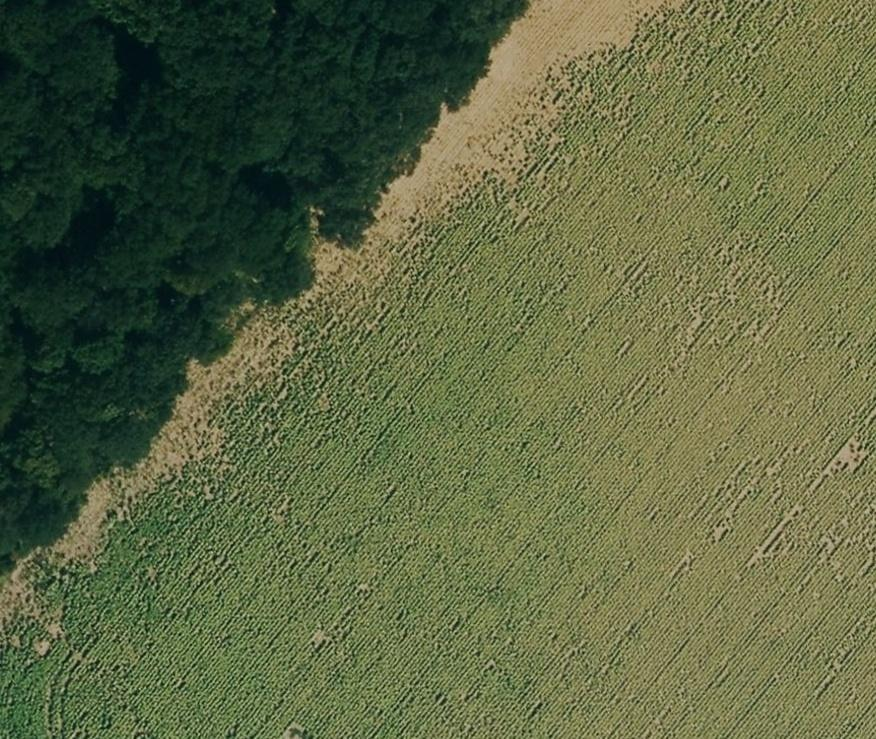field: (0, 3, 876, 737)
forest: (0, 2, 524, 574)
